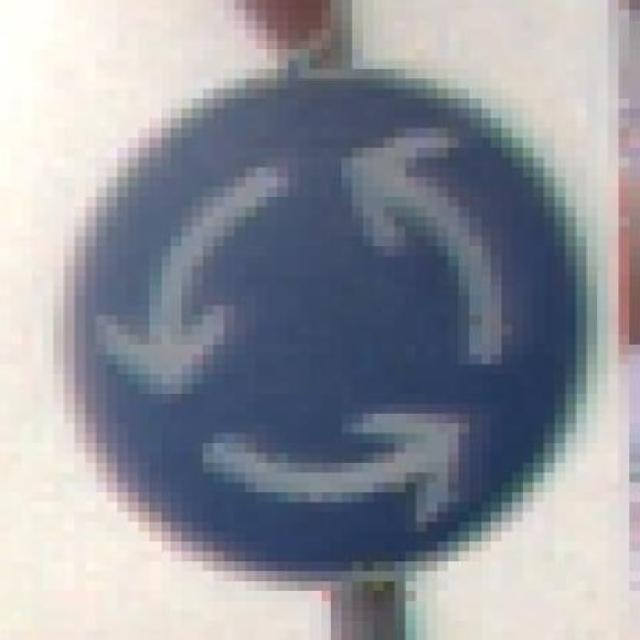Round-About: (32, 39, 619, 581)
